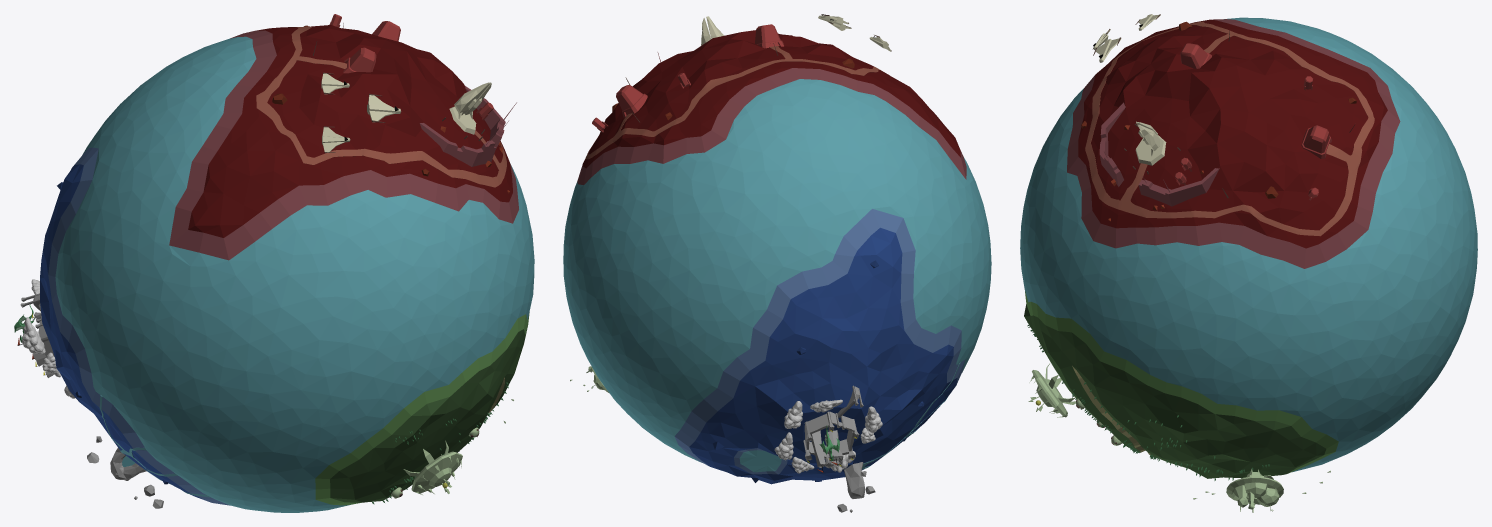
The model's file is globe.glb.
3 views of the same model, side by side, from view 1: azimuth 30°, elevation 25°; view 2: azimuth 150°, elevation 25°; view 3: azimuth 270°, elevation 25° (orthographic). The views are drawn at different scales.
Parts seen in each view (by area): view 1: GLOBE_NEW, ROAD_NEW, WALLNEW, polySurface6, pCube330, Red_base2, polySurface11; view 2: GLOBE_NEW, ROAD_NEW, Red_base1, polySurface11, Red_base2; view 3: GLOBE_NEW, ROAD_NEW, WALLNEW, polySurface9, polySurface6, pCube330, Red_base1, Red_base2.
Part boxes in pixels (left/top/right/bottom): GLOBE_NEW: left=40, top=25, right=534, bottom=512; ROAD_NEW: left=256, top=26, right=506, bottom=187; WALLNEW: left=419, top=86, right=516, bottom=166; polySurface6: left=403, top=440, right=462, bottom=494; pCube330: left=449, top=82, right=491, bottom=134; Red_base2: left=343, top=47, right=376, bottom=73; polySurface11: left=110, top=448, right=146, bottom=480; GLOBE_NEW: left=563, top=30, right=991, bottom=484; ROAD_NEW: left=585, top=46, right=889, bottom=159; Red_base1: left=616, top=85, right=647, bottom=117; polySurface11: left=844, top=462, right=864, bottom=498; Red_base2: left=755, top=24, right=783, bottom=48; GLOBE_NEW: left=1020, top=17, right=1477, bottom=478; ROAD_NEW: left=1085, top=21, right=1374, bottom=236; WALLNEW: left=1099, top=102, right=1219, bottom=206; polySurface9: left=1226, top=469, right=1283, bottom=512; polySurface6: left=1028, top=362, right=1075, bottom=417; pCube330: left=1135, top=121, right=1166, bottom=165; Red_base1: left=1301, top=125, right=1331, bottom=158; Red_base2: left=1180, top=43, right=1211, bottom=68.
Size of the model in its own units: 22.7 by 24.27 by 22.42.
